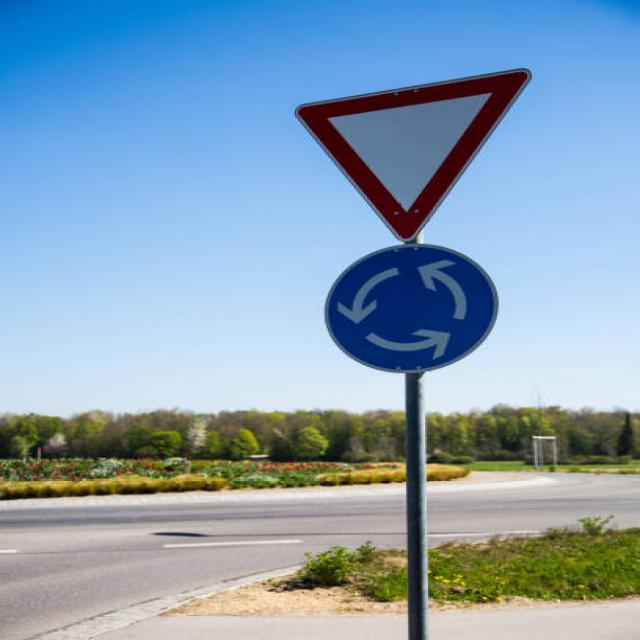round_about: (320, 238, 501, 375)
